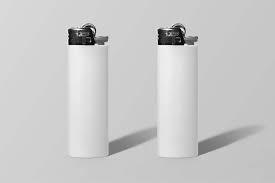lighter: (67, 21, 111, 157), (157, 24, 199, 157)
